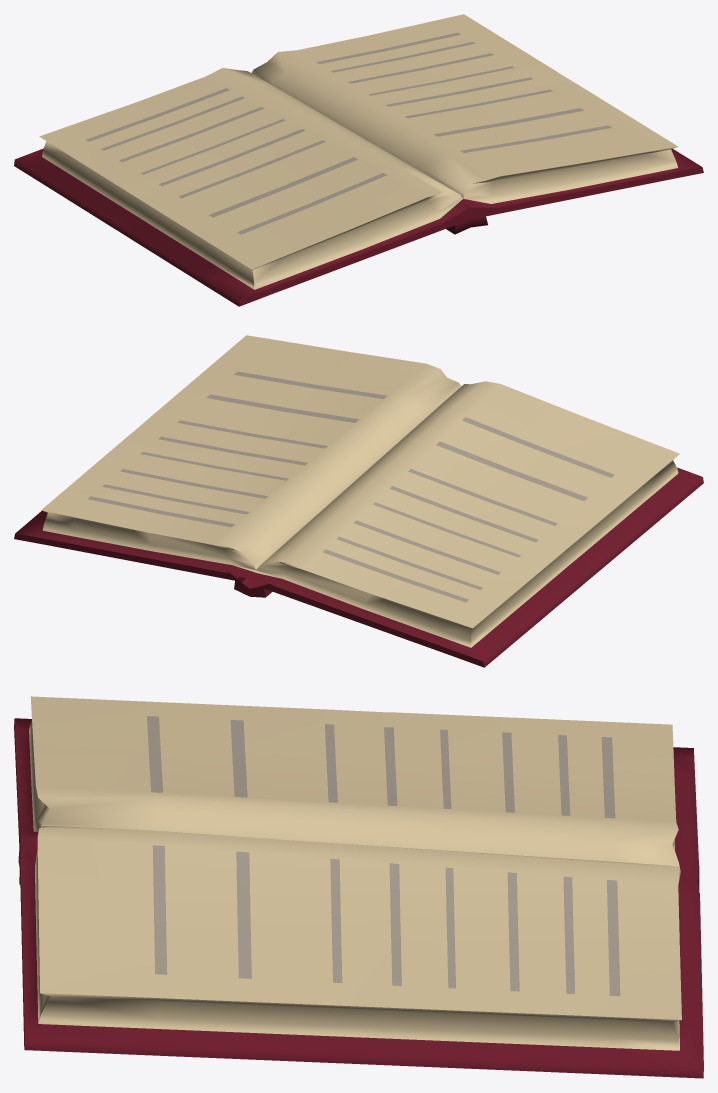
Rendered from book open.fbx.
3 views of the same model, one above another, from view 1: azimuth 30°, elevation 25°; view 2: azimuth 150°, elevation 25°; view 3: azimuth 270°, elevation 25° (orthographic). The views are drawn at different scales.
Parts seen in each view (by area): view 1: Cube.005; view 2: Cube.005; view 3: Cube.005.
Part boxes in pixels (x1=…): Cube.005: x1=14, y1=14, x2=703, y2=306; Cube.005: x1=14, y1=335, x2=703, y2=667; Cube.005: x1=14, y1=696, x2=703, y2=1078.
Bounding box in the file's own units: 32.79 × 5.33 × 27.18.
